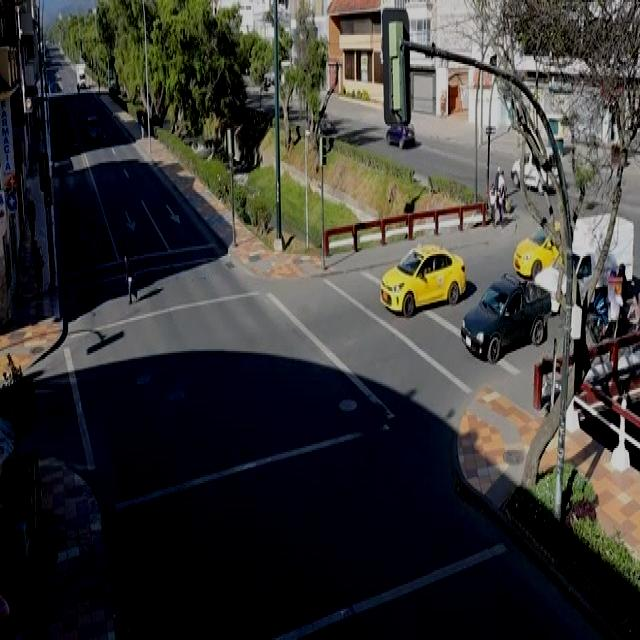CMT: (460, 279, 550, 363)
